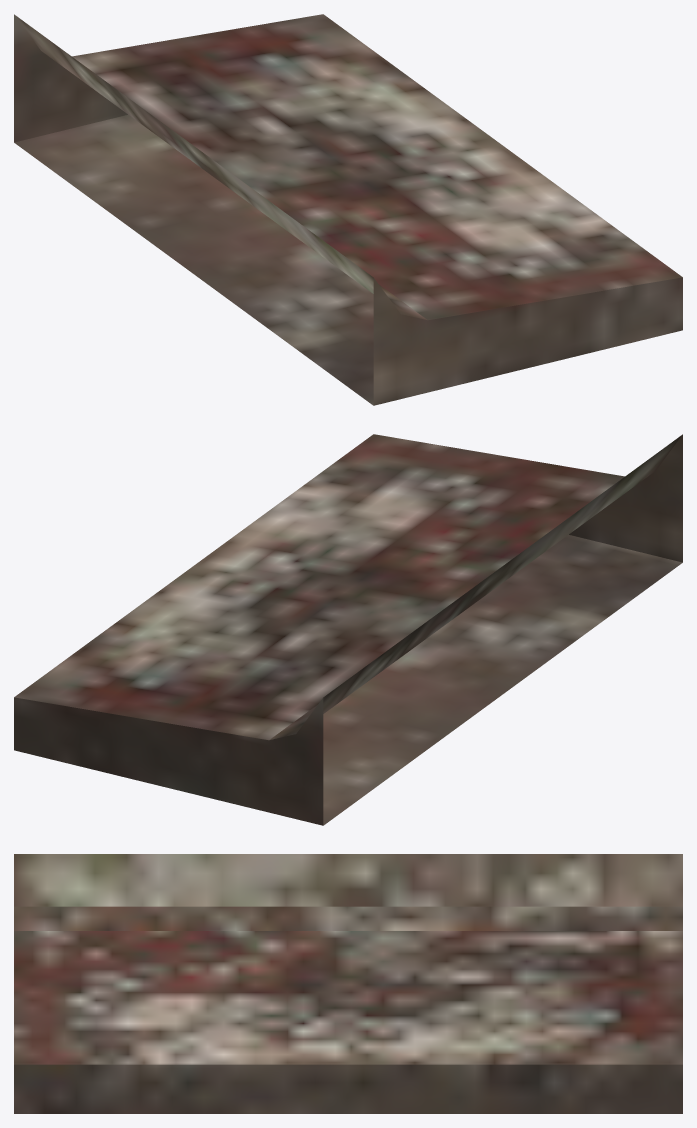
Rendered from WindowTop_S.FBX.
3 views of the same model, one above another, from view 1: azimuth 30°, elevation 25°; view 2: azimuth 150°, elevation 25°; view 3: azimuth 270°, elevation 25° (orthographic). The views are drawn at different scales.
Parts seen in each view (by area): view 1: WindowTop_S; view 2: WindowTop_S; view 3: WindowTop_S.
Part boxes in pixels (x1,y1,x2,y2): WindowTop_S: (14, 14, 682, 405); WindowTop_S: (14, 434, 682, 825); WindowTop_S: (14, 854, 682, 1113).
Size of the model in its own units: 80.93 by 32.1 by 163.
